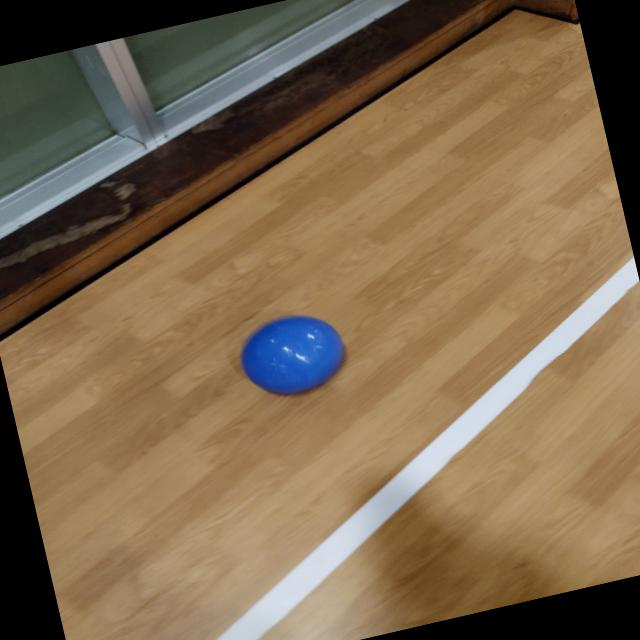blue_ball: (231, 307, 354, 406)
